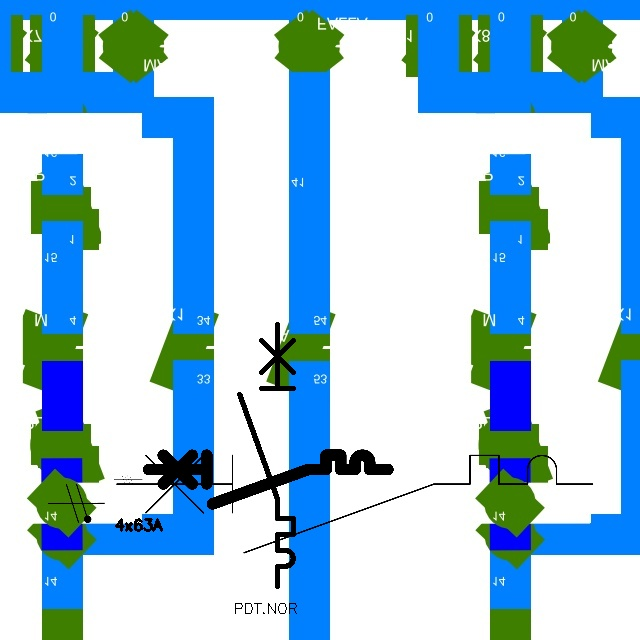interruptor_termomagnetico: (104, 443, 604, 565), (233, 318, 300, 593), (142, 449, 393, 510)
